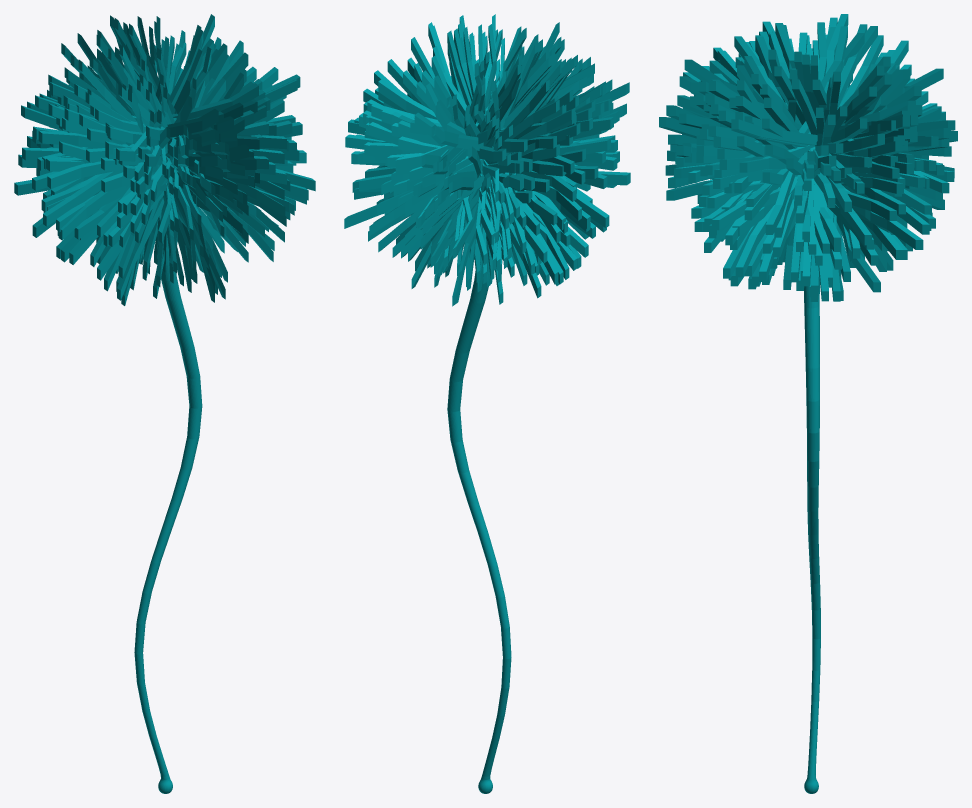
The model's file is Fluff.fbx.
3 renders of one model, left to right at view 1: azimuth 30°, elevation 25°; view 2: azimuth 150°, elevation 25°; view 3: azimuth 270°, elevation 25°, orthographic.
Visible parts, largest first — view 1: Fluff1; view 2: Fluff1; view 3: Fluff1.
Part boxes in pixels (<box>): Fluff1: <box>14,14,315,793</box>; Fluff1: <box>344,14,630,793</box>; Fluff1: <box>659,14,957,793</box>.
Bounding box in the file's own units: 0.2091 × 0.6222 × 0.2222.
